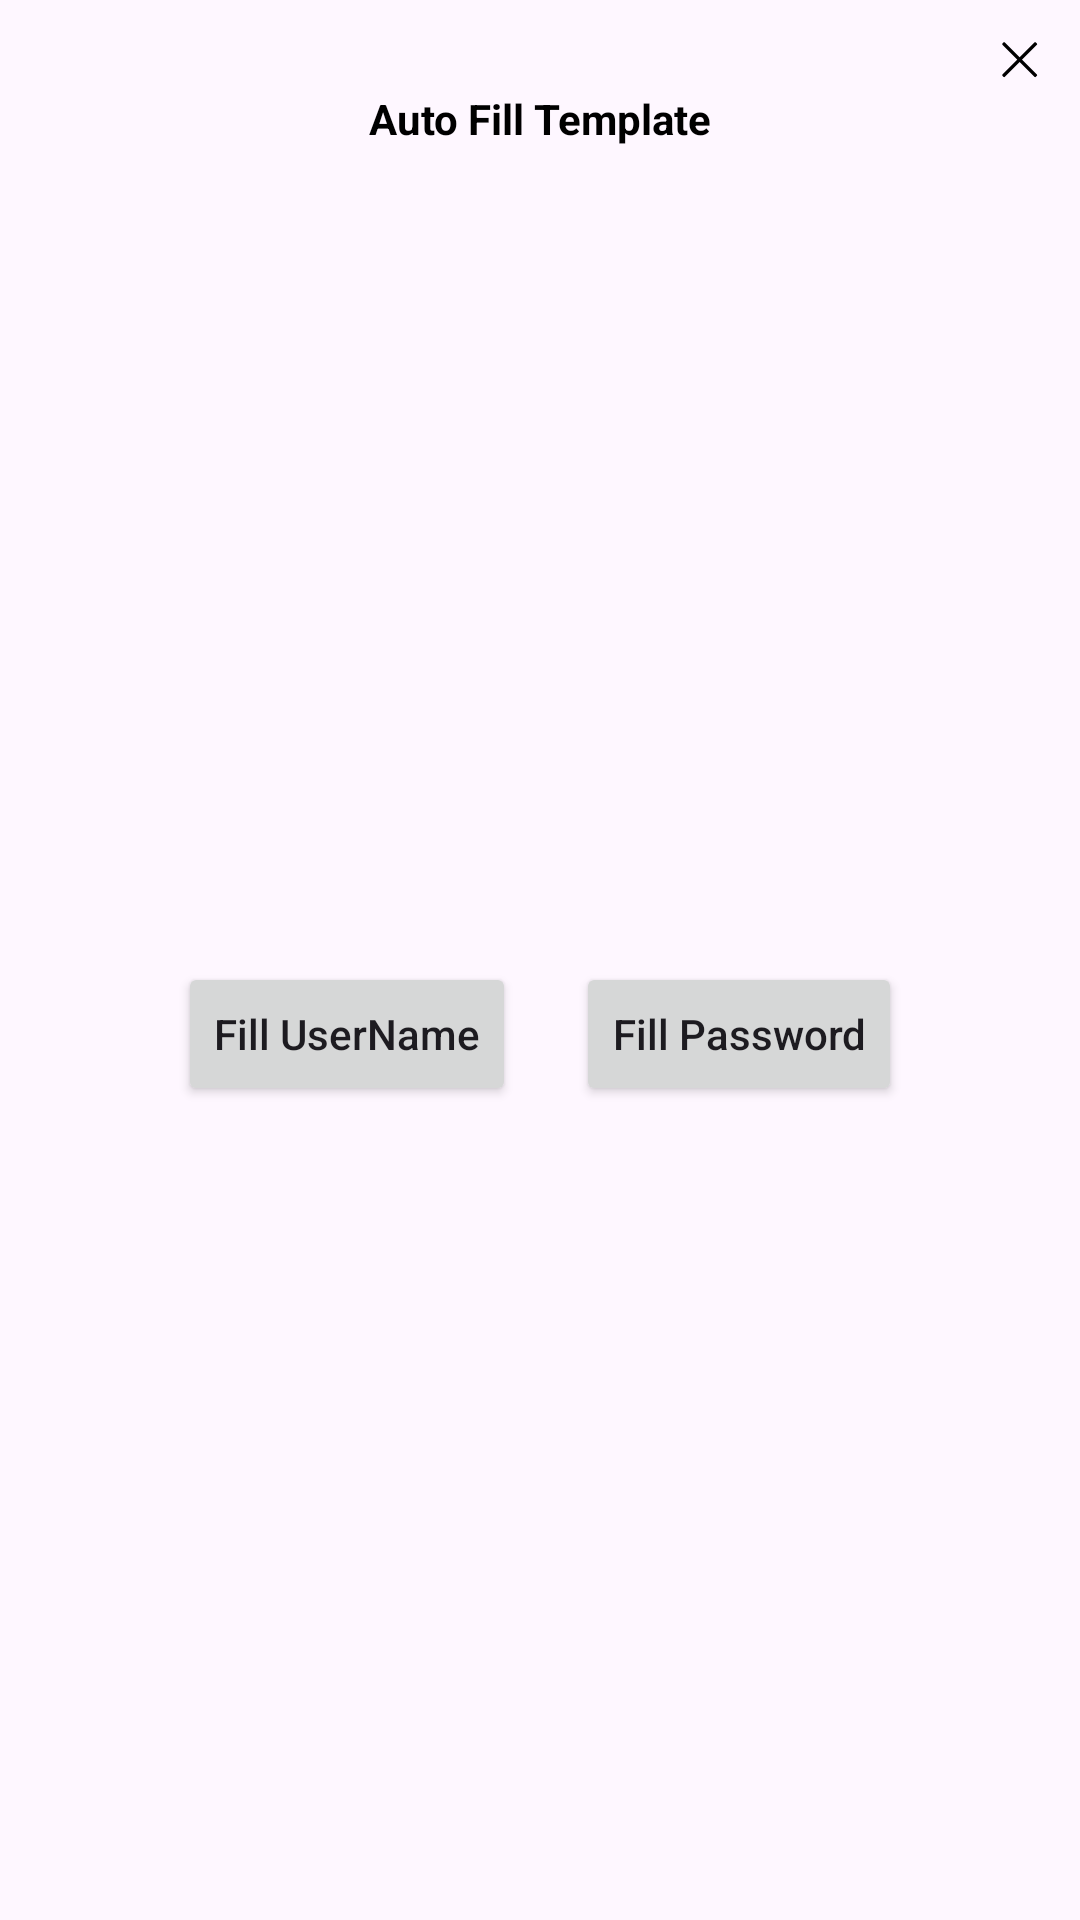

Named icons in this screenshot (1080×1920) and their centers, [x,y]:
close: [1019,59]
